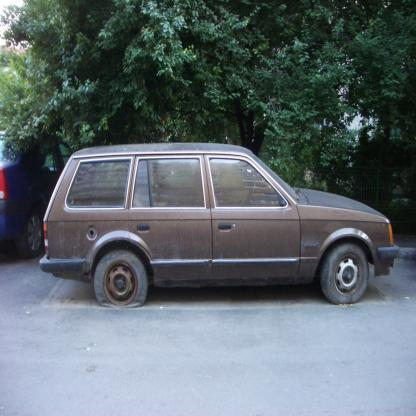Car: (39, 140, 401, 312), (0, 126, 78, 258)
